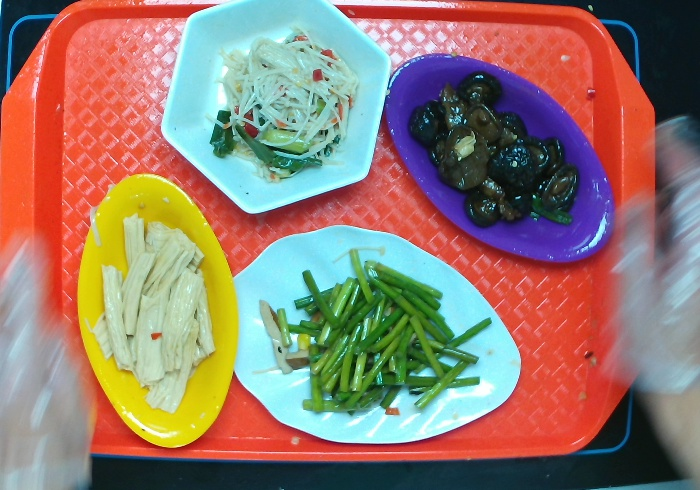RJxy-Bai_Ye_Pan: (220, 219, 529, 452)
RJxy-Fen_Hong_Tuo_Yuan: (375, 43, 625, 272)
RJxy-Huang_Se_Tuo_Yuan: (66, 164, 244, 460)
RJxy-Liu_Jiao_Wan: (160, 1, 394, 219)
